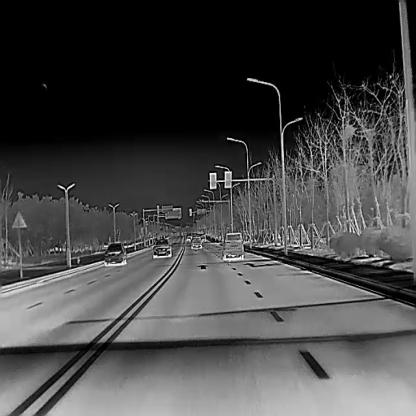car: (221, 231, 244, 260), (102, 240, 127, 265), (151, 238, 172, 258), (190, 236, 202, 249), (186, 235, 192, 240)
